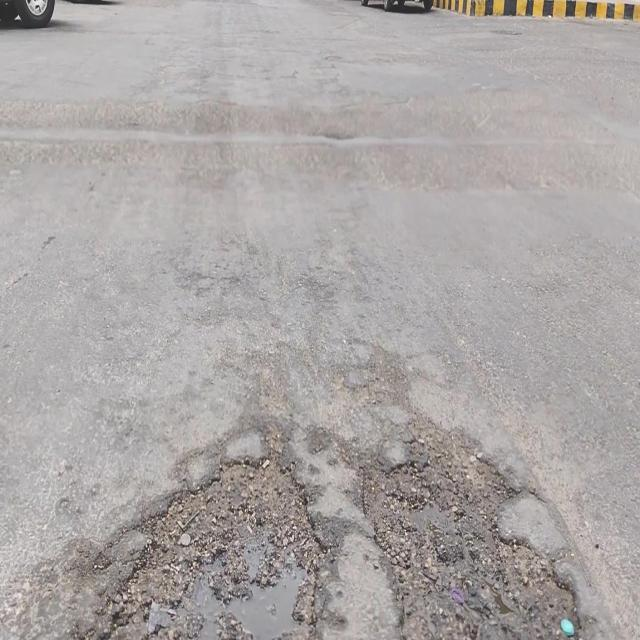Potholes: (359, 420, 583, 640), (90, 454, 325, 640)
